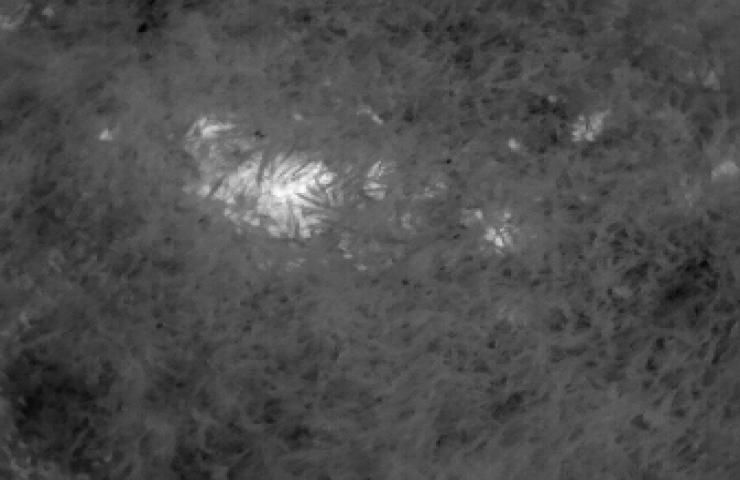landmines: (193, 149, 351, 241)
